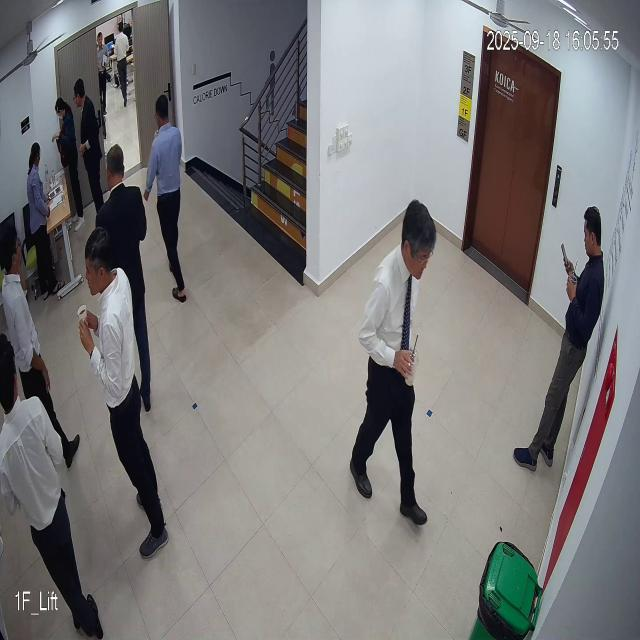face: (398, 191, 438, 286)
